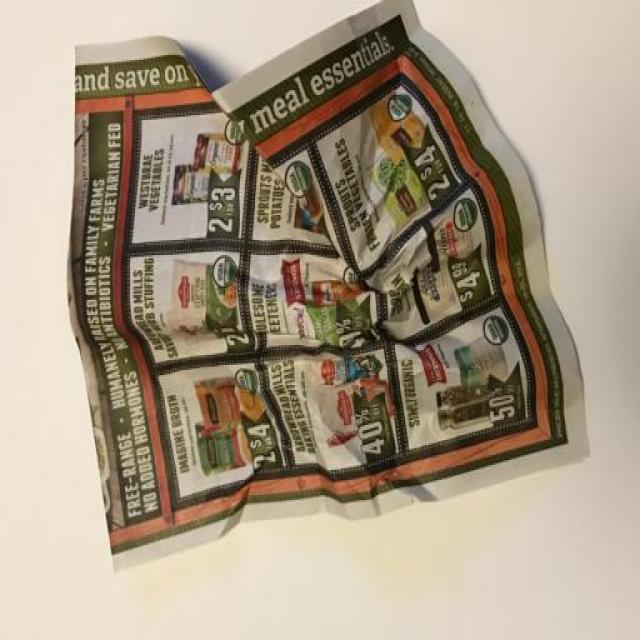paper: (61, 11, 610, 558)
